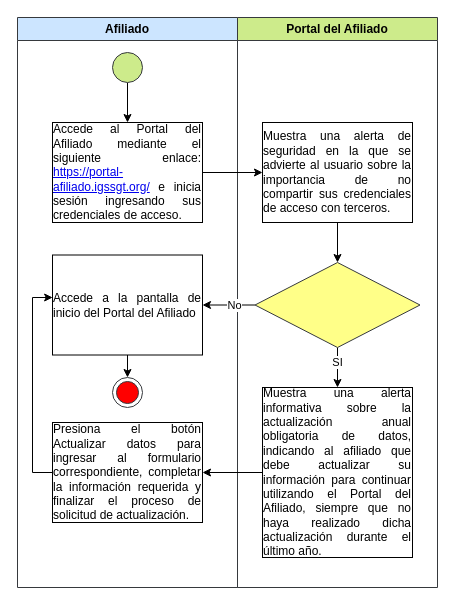
Some shapes in this 455 by 605 pixel diagram are drawn without their labels. The centre of each missing label's shape, as x and y in pixels:
"Fin" belongs at (127,392).
"Inicio" belongs at (127,67).
"¿El afiliado realizó la actualización de datos durante el último año?" belongs at (337,305).
